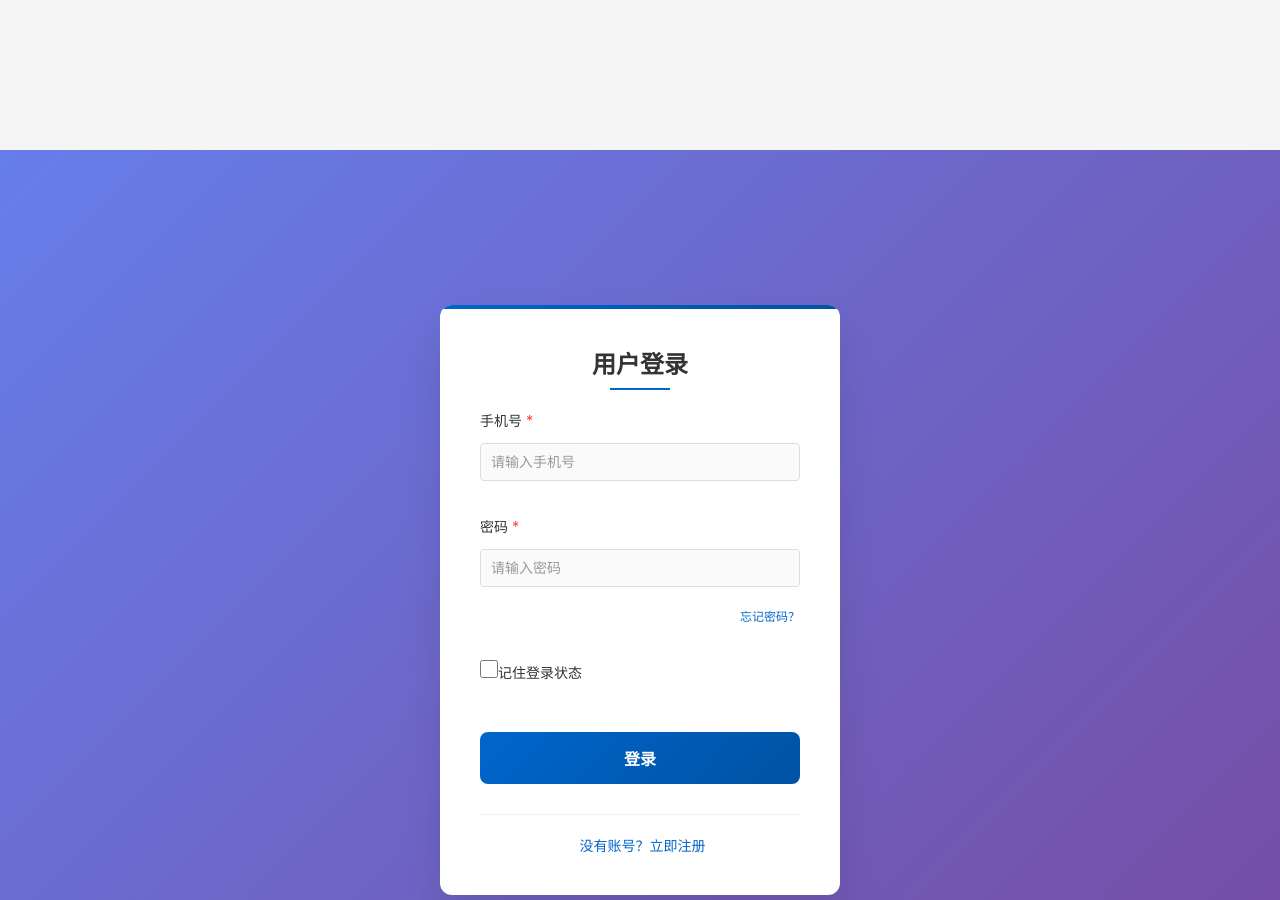
Scenario: LoginPage Component › 应该验证手机号格式
#  输入无效手机号
Type "123456" into the field labelled "手机号".
click(640, 462); type("123456")  # box x1=480 y1=443 x2=800 y2=481
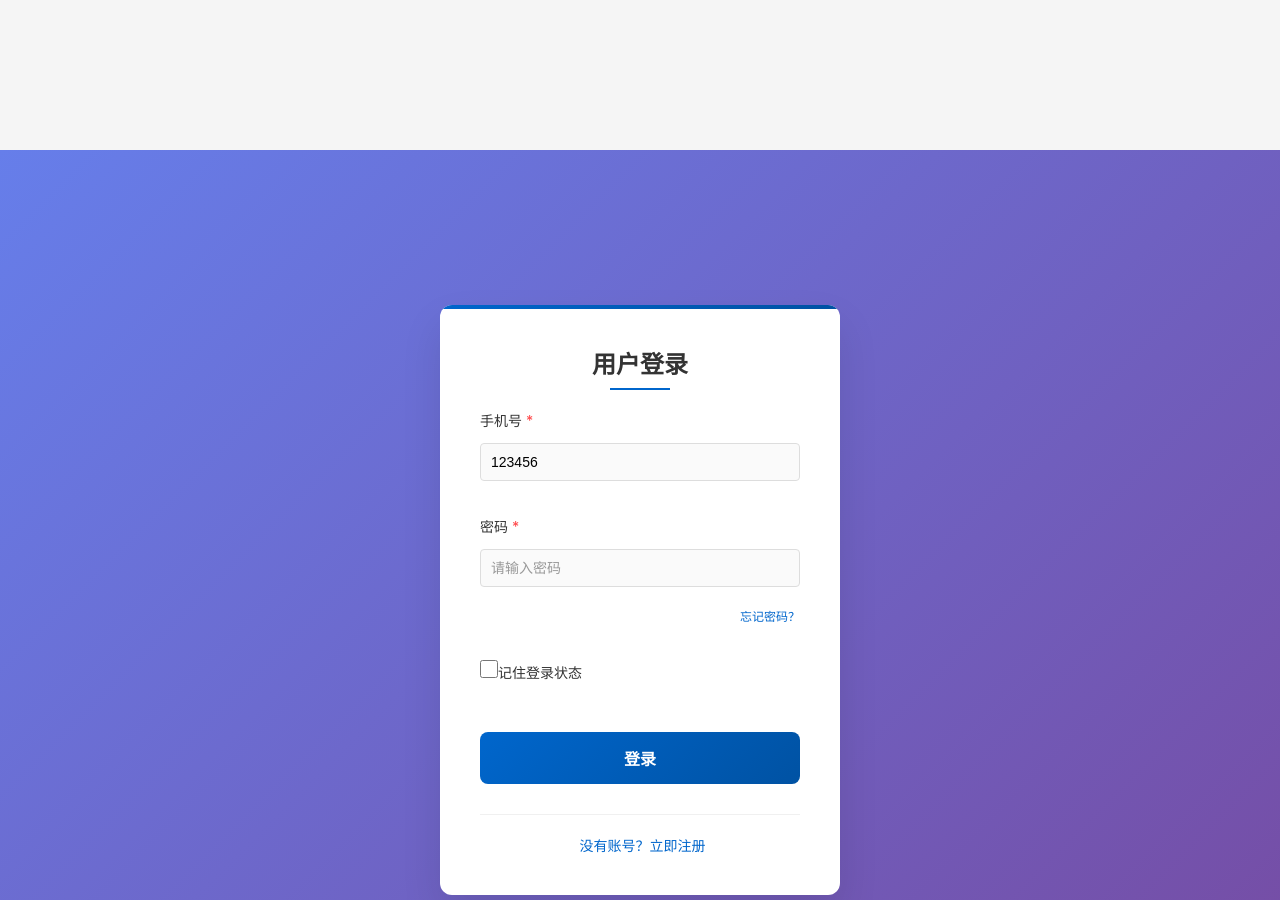
Click the button "登录".
click(640, 758)  # box x1=480 y1=732 x2=800 y2=784
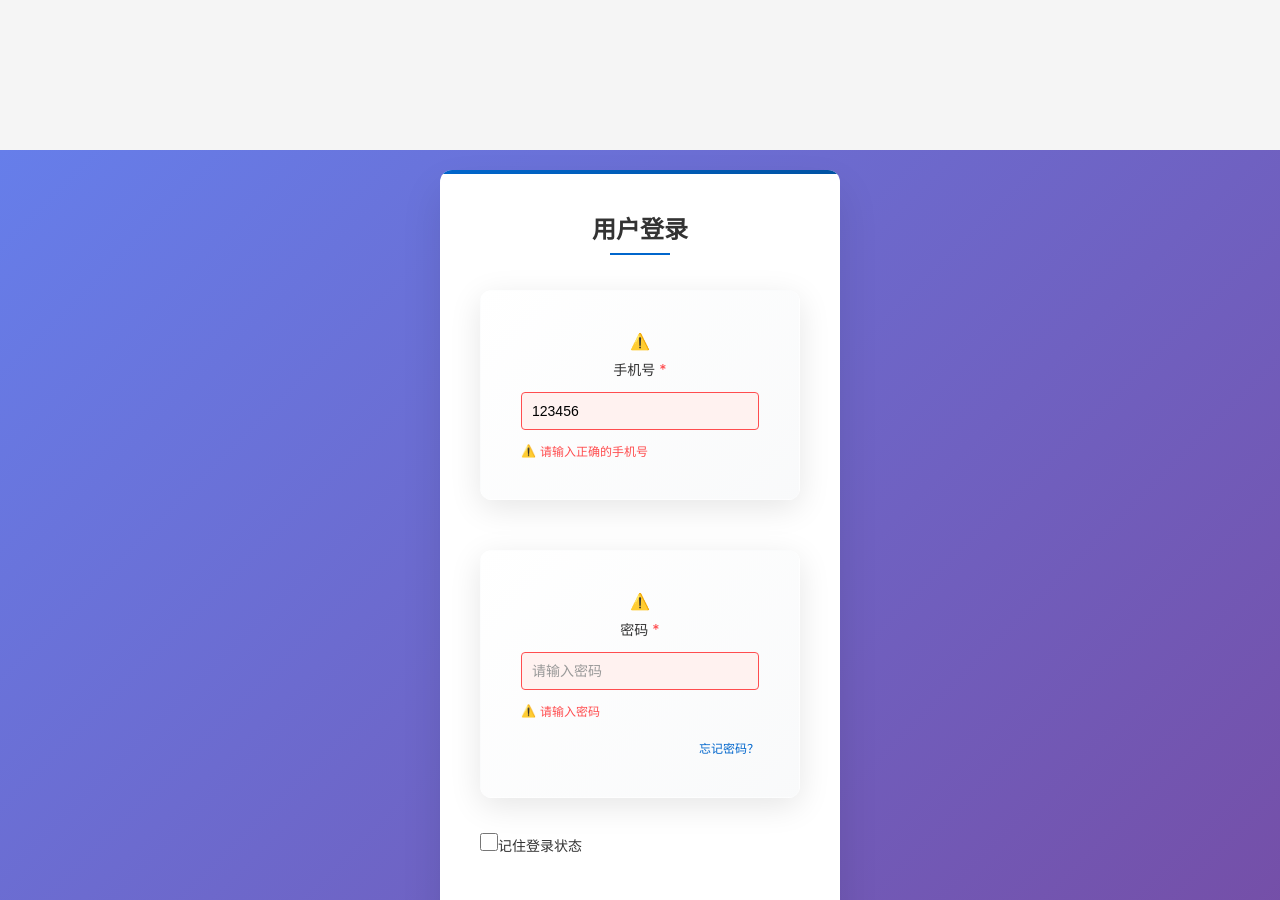
Expected: the text "请输入正确的手机号" is shown, x1=540 y1=444 x2=648 y2=459
